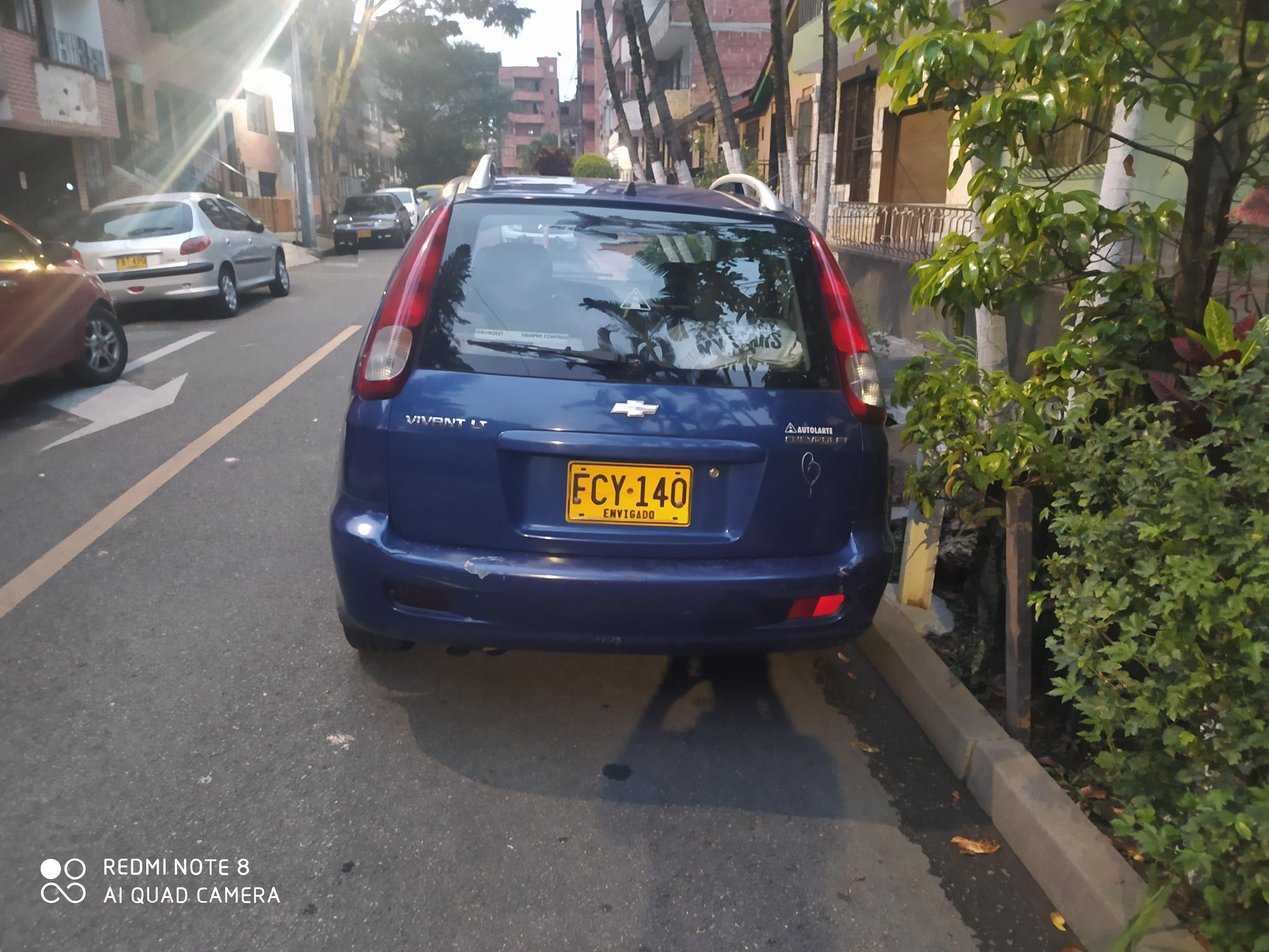placa: (555, 454, 700, 533)
